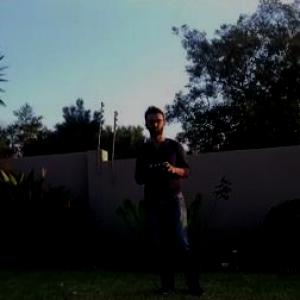follow: (132, 101, 214, 299)
